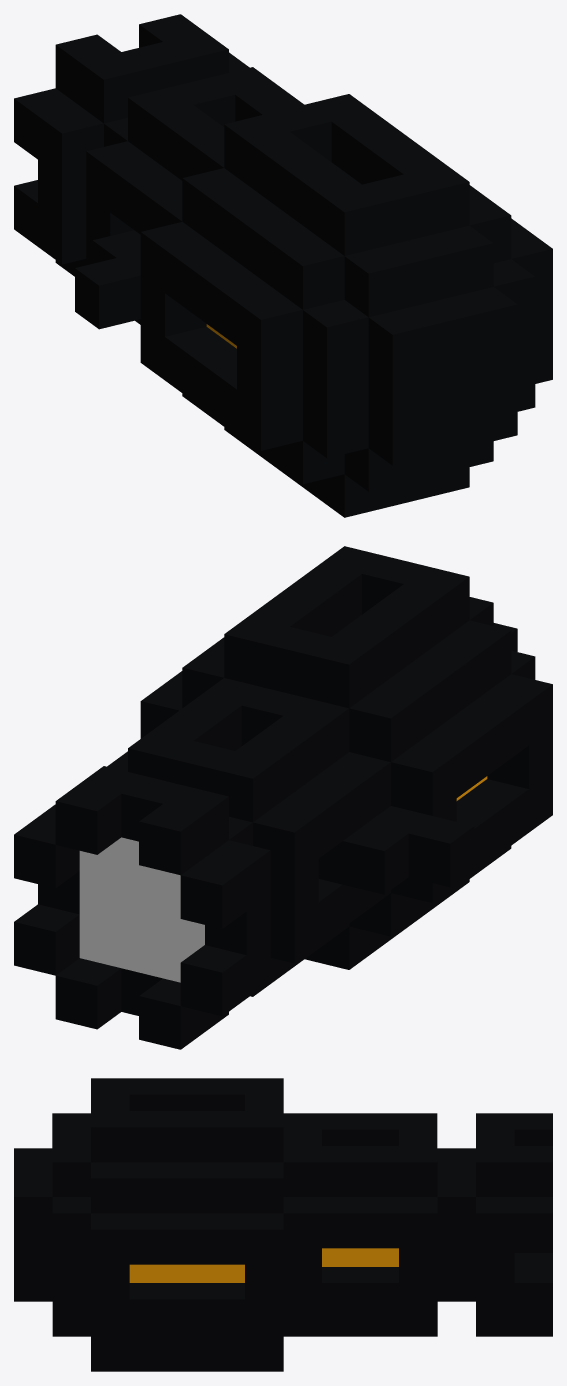
File: LeftEngineSmall1.FBX
3 renders of one model, top to bottom at view 1: azimuth 30°, elevation 25°; view 2: azimuth 150°, elevation 25°; view 3: azimuth 270°, elevation 25°, orthographic. The views are drawn at different scales.
Parts seen in each view (by area): view 1: LeftEngineSmall1; view 2: LeftEngineSmall1; view 3: LeftEngineSmall1.
Boxes of the visible parts, x1,y1,x2,y2 form: LeftEngineSmall1: (14, 14, 552, 517); LeftEngineSmall1: (14, 546, 552, 1049); LeftEngineSmall1: (14, 1078, 552, 1371).
Size of the model in its own units: 8 by 14 by 7.
